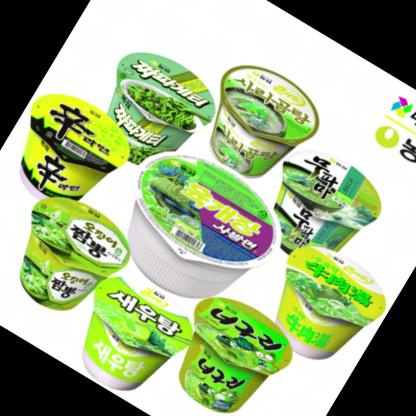Ramen: (94, 129, 301, 329), (243, 134, 395, 286), (77, 36, 229, 188), (56, 260, 204, 410), (250, 234, 397, 379), (187, 52, 332, 196), (0, 178, 141, 326), (0, 76, 140, 224), (153, 284, 304, 416)
